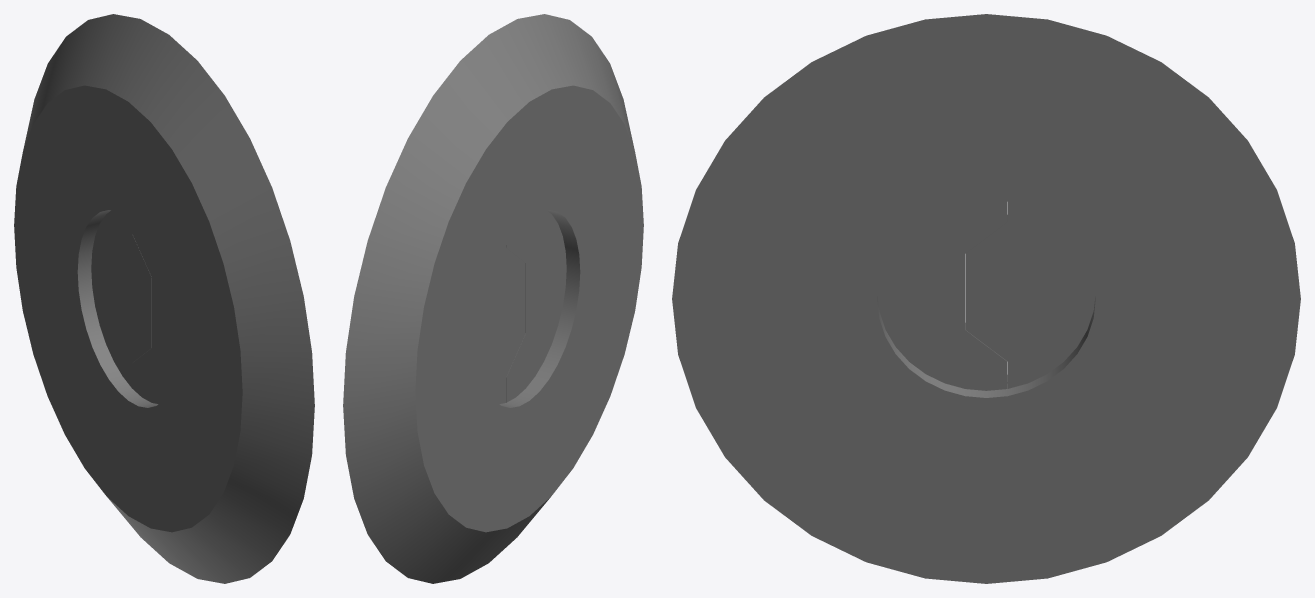
Rendered from Salida.fbx.
3 views of the same model, side by side, from view 1: azimuth 30°, elevation 25°; view 2: azimuth 150°, elevation 25°; view 3: azimuth 270°, elevation 25° (orthographic). The views are drawn at different scales.
Visible parts, largest first — view 1: MarcoSalida, SalidaMacho, SalidaHembra; view 2: MarcoSalida, SalidaHembra, SalidaMacho; view 3: MarcoSalida, SalidaMacho, SalidaHembra.
Part boxes in pixels (x1,y1,x2,y2): MarcoSalida: [14, 14, 314, 583]; SalidaMacho: [91, 210, 151, 387]; SalidaHembra: [132, 220, 178, 404]; MarcoSalida: [343, 14, 643, 583]; SalidaHembra: [506, 210, 566, 402]; SalidaMacho: [479, 246, 525, 404]; MarcoSalida: [672, 14, 1300, 583]; SalidaMacho: [965, 202, 1095, 388]; SalidaHembra: [877, 200, 1007, 390].
Bounding box in the file's own units: 100 × 1240 × 1240.
Materials: 3 (3 with a texture image).
